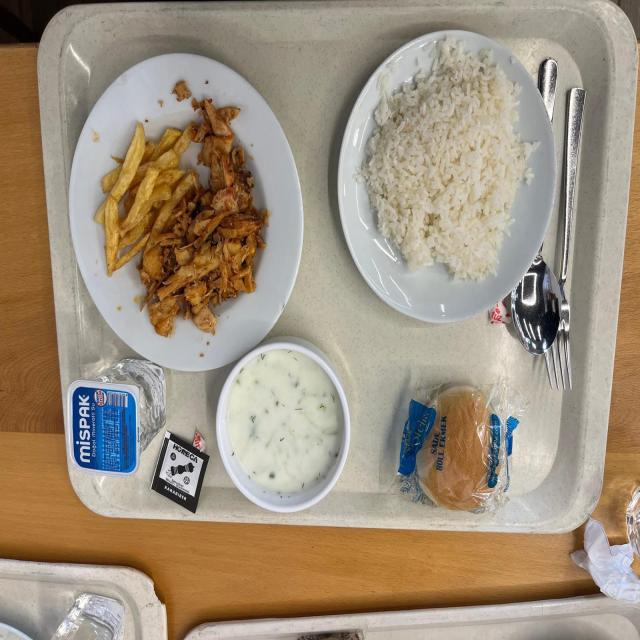ana_yemek: (67, 50, 306, 365), (336, 30, 544, 327)
corba: (215, 340, 345, 508)
